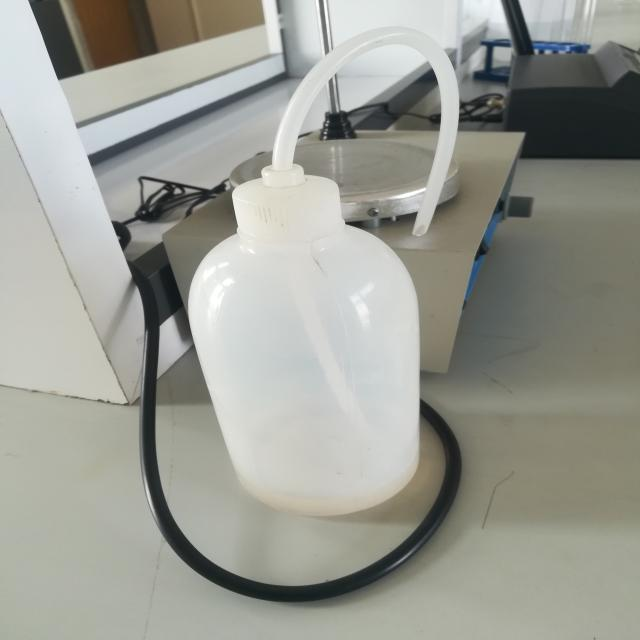Wash_Bottle: (170, 12, 514, 544)
